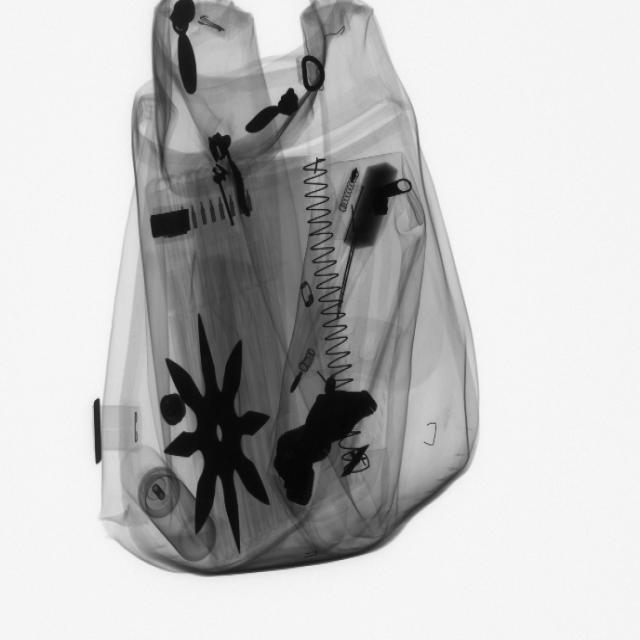SHURIKEN: (163, 313, 275, 554)
